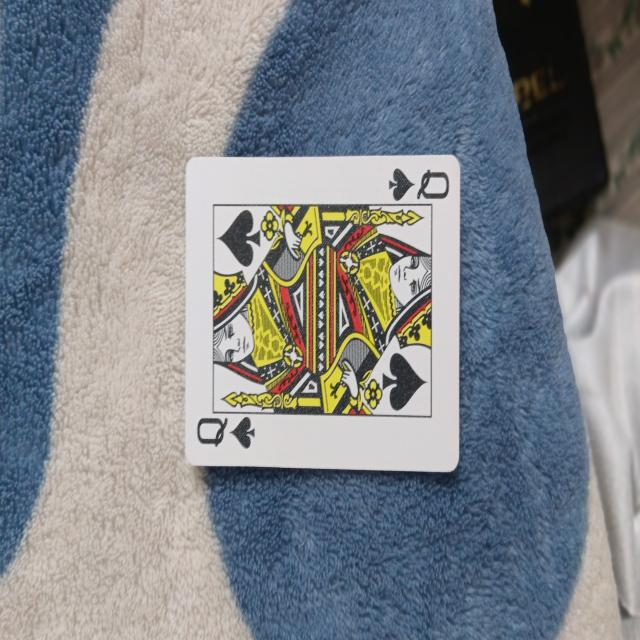QS: (184, 154, 463, 479)
